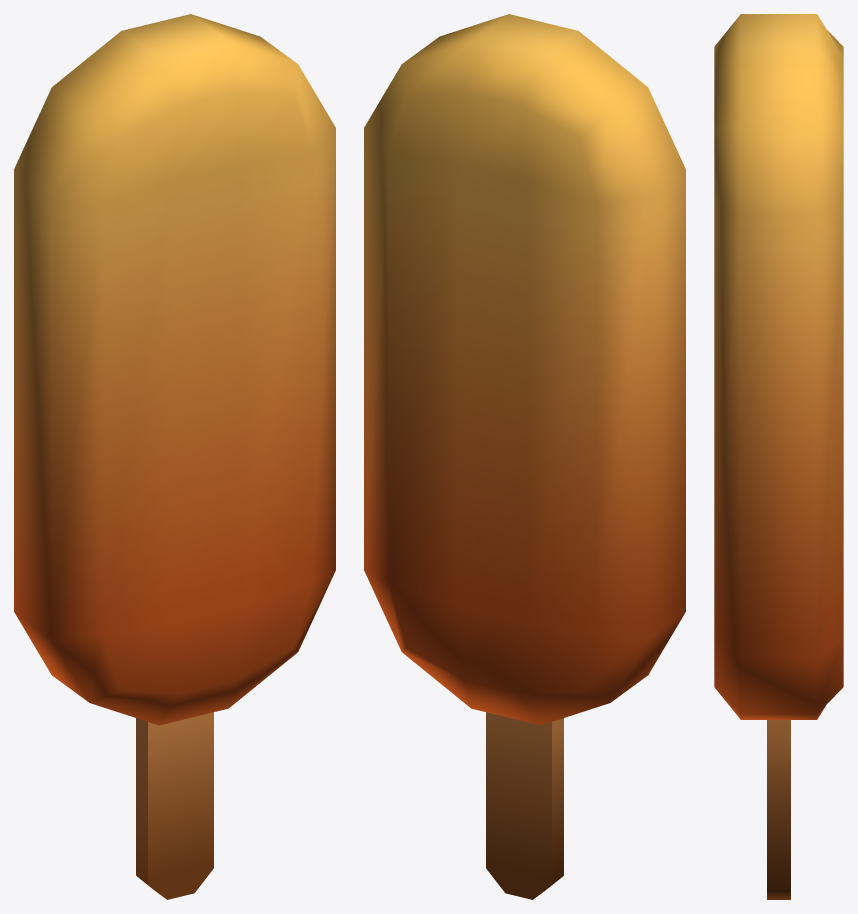
Rendered from m_Popsicle09.fbx.
The picture shows the model from 3 angles, left to right: view 1: azimuth 30°, elevation 25°; view 2: azimuth 150°, elevation 25°; view 3: azimuth 270°, elevation 25°; orthographic projection.
Visible parts, largest first — view 1: m_Popsicle09; view 2: m_Popsicle09; view 3: m_Popsicle09.
Part boxes in pixels (bbox=[...]): m_Popsicle09: bbox=[14, 14, 335, 899]; m_Popsicle09: bbox=[364, 14, 685, 899]; m_Popsicle09: bbox=[714, 14, 843, 899].
Size of the model in its own units: 7.98 by 22.99 by 3.12.
